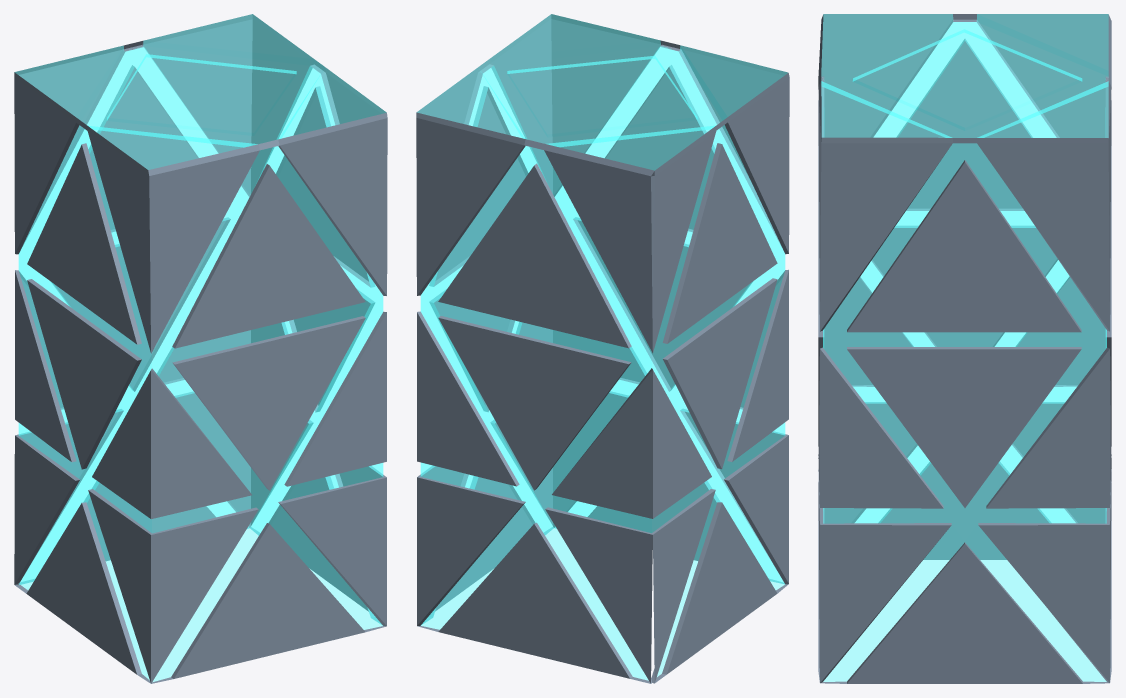
The model's file is redGlassBuilding_Geo.fbx.
3 renders of one model, left to right at view 1: azimuth 30°, elevation 25°; view 2: azimuth 150°, elevation 25°; view 3: azimuth 270°, elevation 25°, orthographic. The views are drawn at different scales.
Visible parts, largest first — view 1: redGlassBuilding; view 2: redGlassBuilding; view 3: redGlassBuilding.
Boxes of the visible parts, bbox=[...] form: redGlassBuilding: bbox=[14, 14, 387, 683]; redGlassBuilding: bbox=[416, 14, 789, 683]; redGlassBuilding: bbox=[818, 14, 1111, 683].
Bounding box in the file's own units: 1553 × 3192 × 1552.
